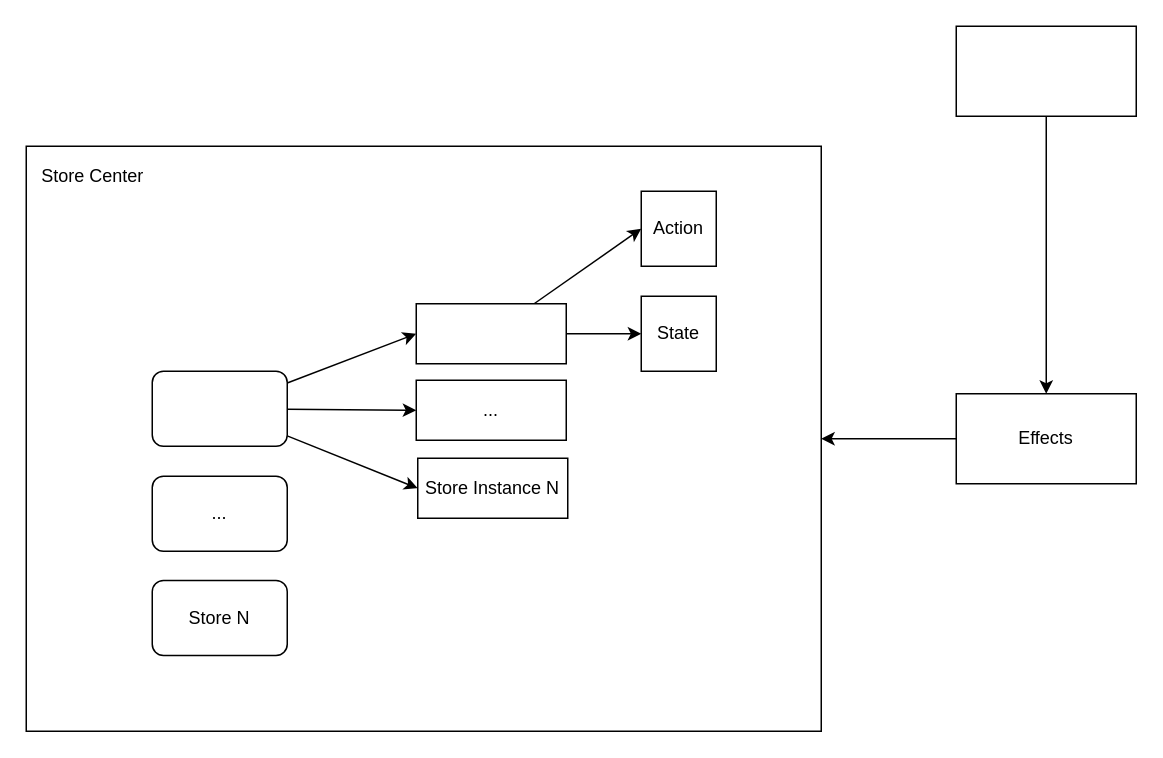
This 1163x758 diagram has some shape labels left out. The centre of each missing label's shape, as x and y in pixels:
"Application" goes at (x=1045, y=70).
"Store 1" goes at (x=219, y=408).
"Store Instance 1" goes at (x=490, y=333).
